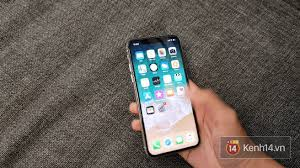iphone10: (125, 32, 199, 157)
